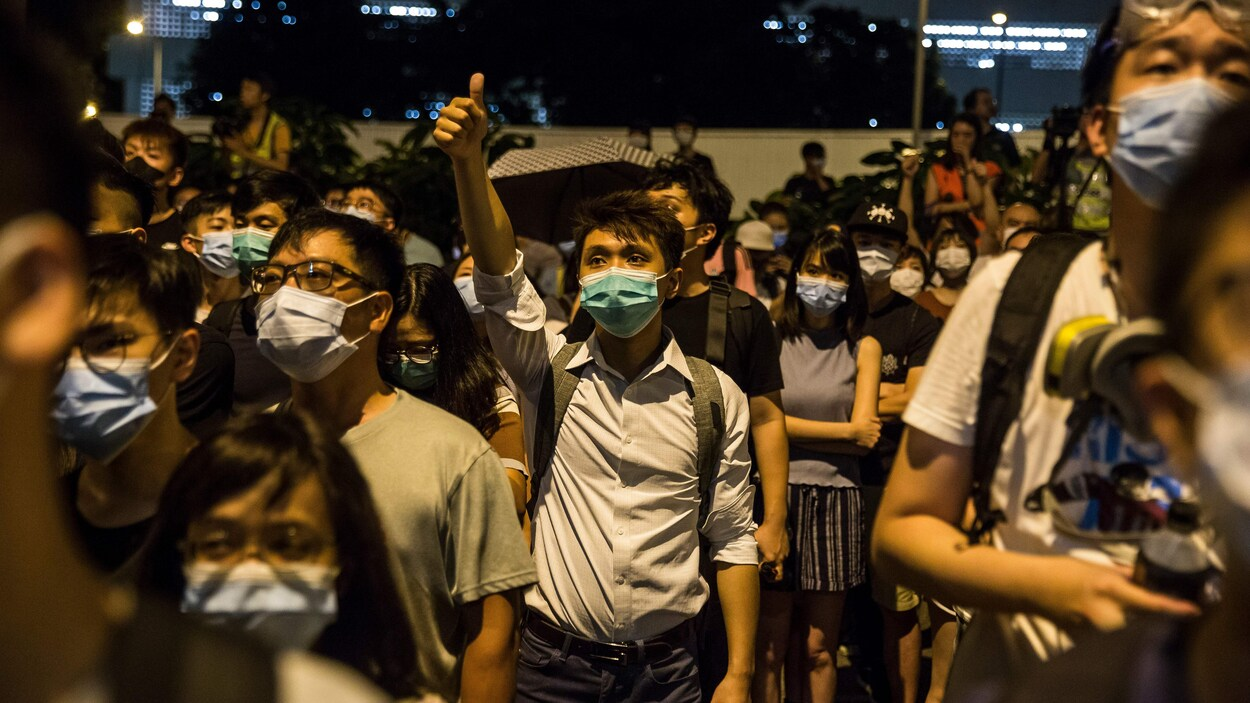with_mask: (172, 490, 343, 642), (1115, 32, 1250, 204), (46, 302, 171, 444), (252, 257, 359, 378), (586, 239, 661, 334), (180, 215, 246, 274), (121, 139, 177, 196), (801, 250, 851, 309), (233, 214, 279, 263), (856, 232, 900, 277), (930, 234, 971, 276), (890, 257, 923, 294)
